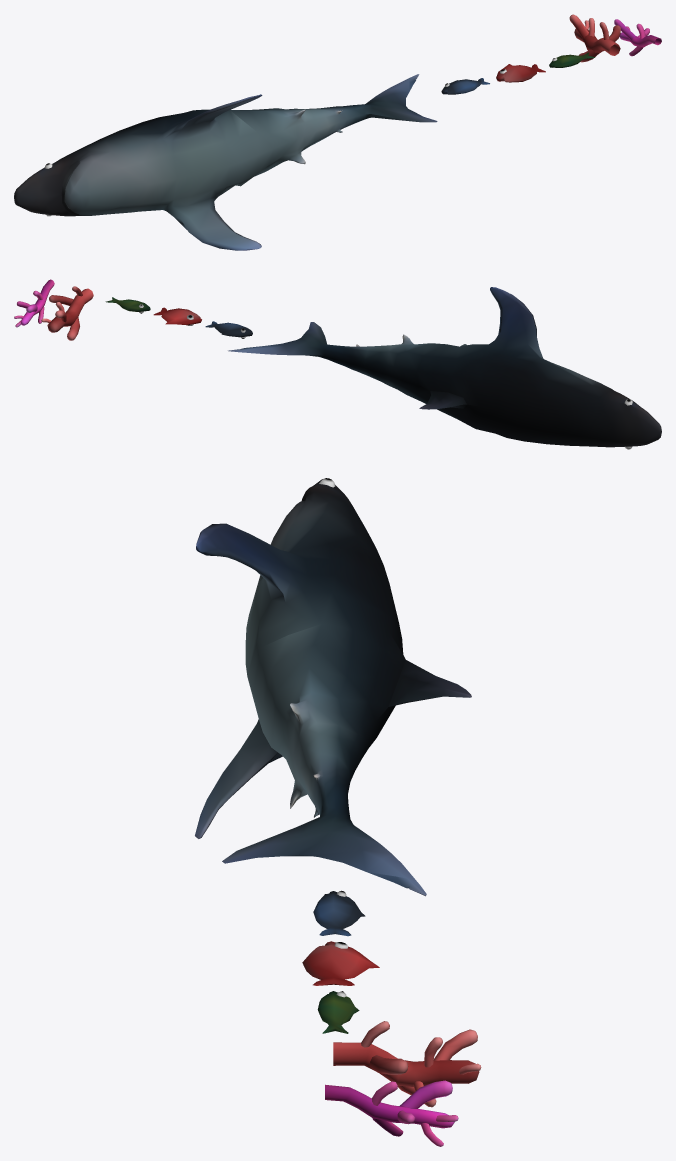
3 views of the same model, one above another, from view 1: azimuth 30°, elevation 25°; view 2: azimuth 150°, elevation 25°; view 3: azimuth 270°, elevation 25° (orthographic). The views are drawn at different scales.
Visible parts, largest first — view 1: attribdelete1; view 2: attribdelete1; view 3: attribdelete1.
Boxes of the visible parts, left/top/right/bottom form: attribdelete1: left=14, top=14, right=661, bottom=250; attribdelete1: left=14, top=279, right=661, bottom=449; attribdelete1: left=195, top=478, right=481, bottom=1146.
Size of the model in its own units: 65.59 by 14.65 by 13.05.
